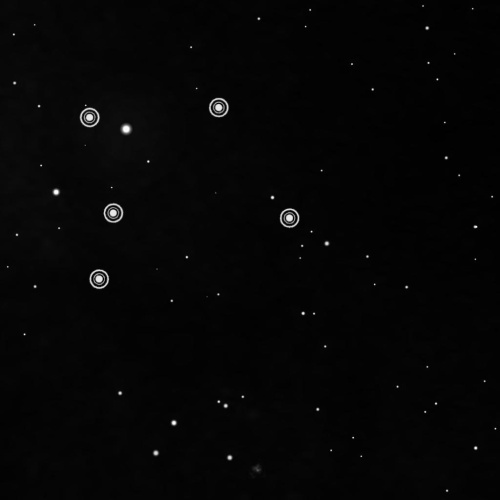libra: (73, 91, 305, 295)
